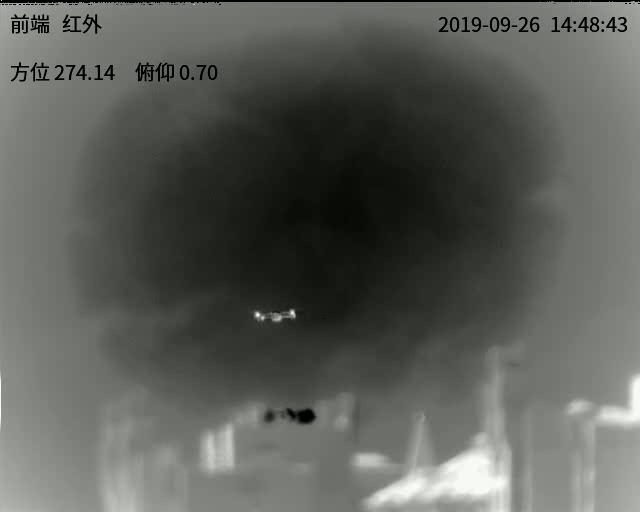DRONE: (251, 307, 297, 322)
